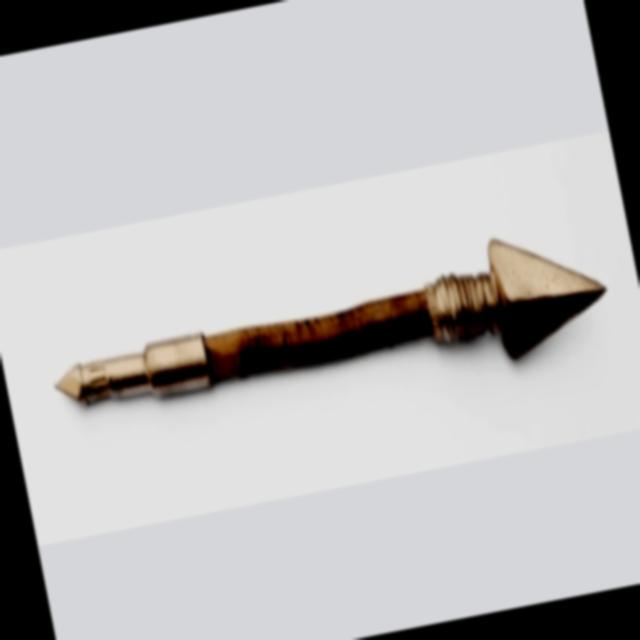spear: (26, 167, 634, 502)
